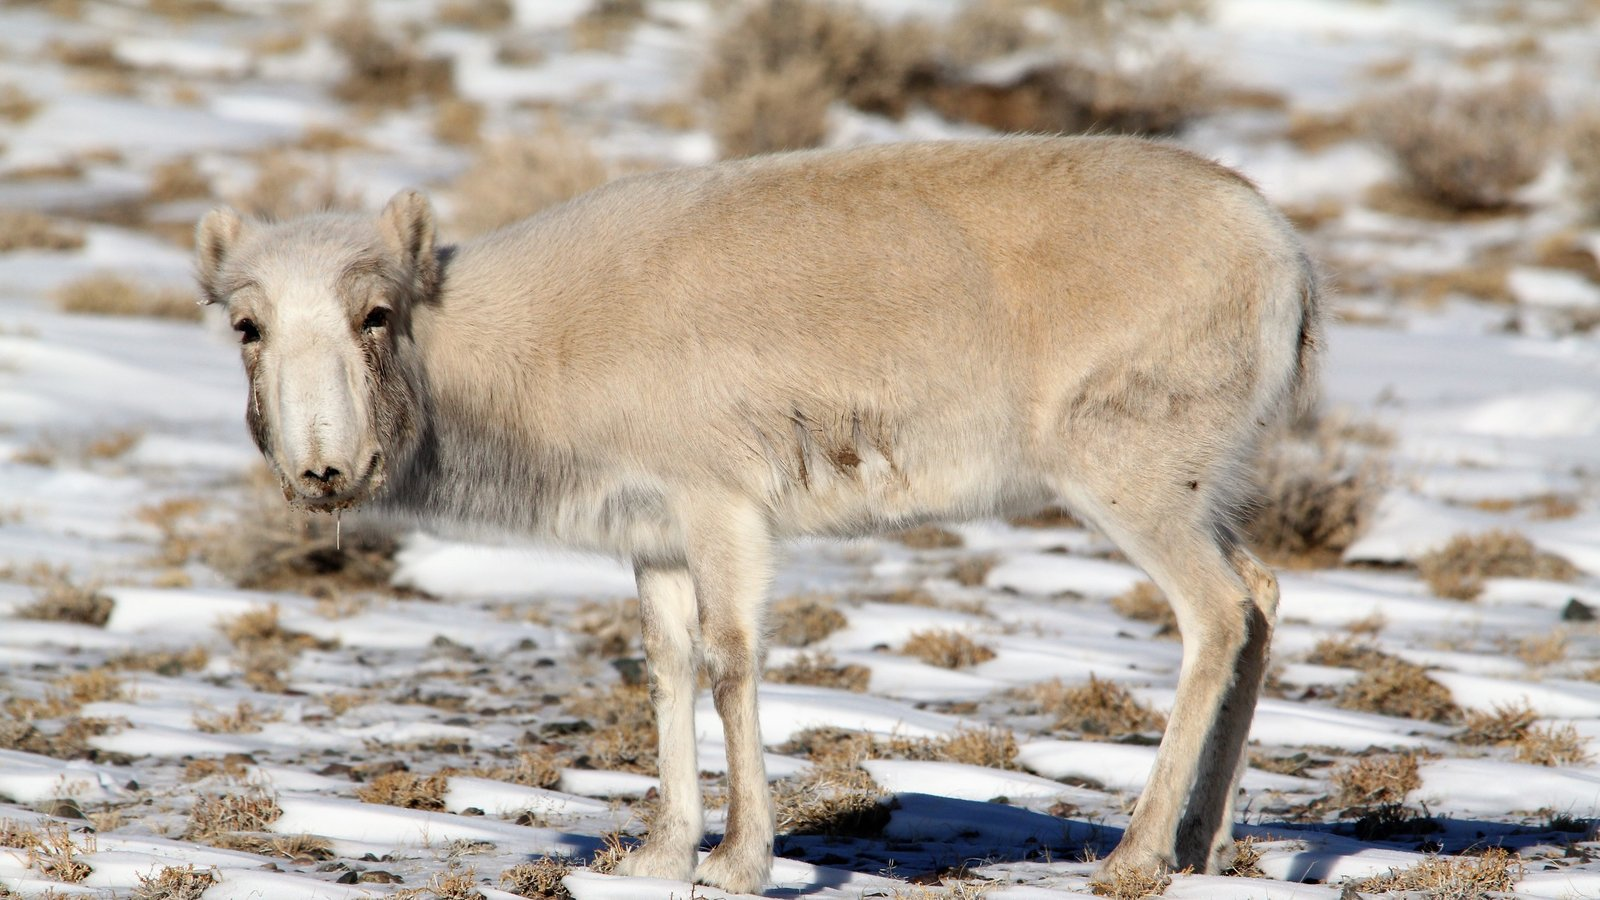saiga: (225, 127, 1319, 900)
